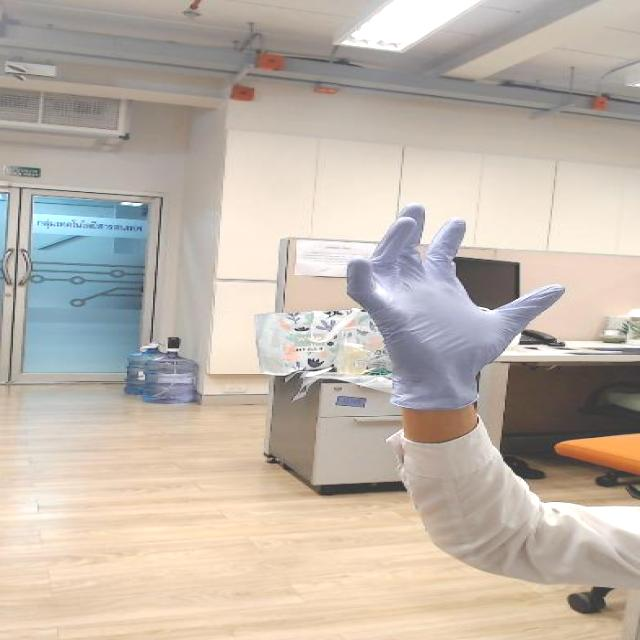glove: (330, 199, 575, 361)
